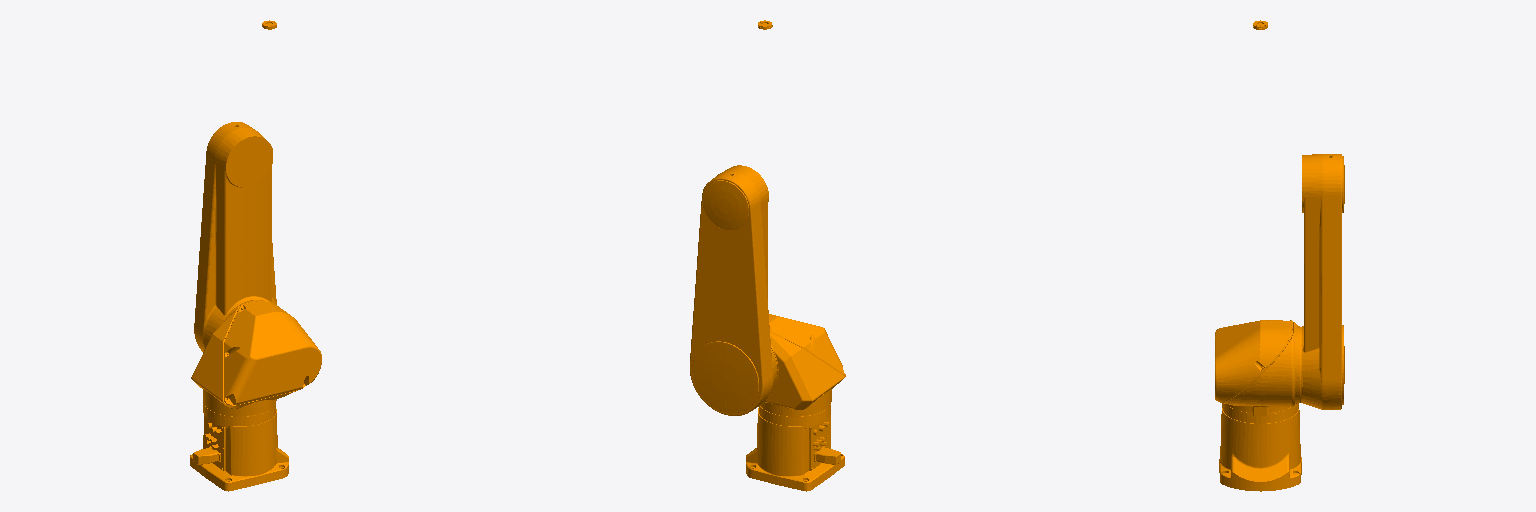
URDF robot description (staubli_rx160):
<?xml version="1.0" ?>
<!-- =================================================================================== -->
<!-- |    This document was autogenerated by xacro from rx160.xacro                    | -->
<!-- |    EDITING THIS FILE BY HAND IS NOT RECOMMENDED                                 | -->
<!-- =================================================================================== -->
<robot name="staubli_rx160" xmlns:xacro="http://ros.org/wiki/xacro">
  <link name="base_link">
    <visual>
      <origin rpy="0 0 0" xyz="0 0 0"/>
      <geometry>
        <mesh filename="package://staubli_rx160_support/meshes/rx160/visual/base_link.stl"/>
      </geometry>
      <material name="">
        <color rgba="1.0 0.608 0 1"/>
      </material>
    </visual>
    <collision>
      <origin rpy="0 0 0" xyz="0 0 0"/>
      <geometry>
        <mesh filename="package://staubli_rx160_support/meshes/rx160/collision/base_link.stl"/>
      </geometry>
    </collision>
  </link>
  <link name="link_1">
    <visual>
      <origin rpy="0 0 0" xyz="0 0 0"/>
      <geometry>
        <mesh filename="package://staubli_rx160_support/meshes/rx160/visual/link_1.stl"/>
      </geometry>
      <material name="">
        <color rgba="1.0 0.608 0 1"/>
      </material>
    </visual>
    <collision>
      <origin rpy="0 0 0" xyz="0 0 0"/>
      <geometry>
        <mesh filename="package://staubli_rx160_support/meshes/rx160/collision/link_1.stl"/>
      </geometry>
    </collision>
  </link>
  <link name="link_2">
    <visual>
      <origin rpy="0 0 0" xyz="0 0 0"/>
      <geometry>
        <mesh filename="package://staubli_rx160_support/meshes/rx160/visual/link_2.stl"/>
      </geometry>
      <material name="">
        <color rgba="1.0 0.608 0 1"/>
      </material>
    </visual>
    <collision>
      <origin rpy="0 0 0" xyz="0 0 0"/>
      <geometry>
        <mesh filename="package://staubli_rx160_support/meshes/rx160/collision/link_2.stl"/>
      </geometry>
    </collision>
  </link>
  <link name="link_3">
    <visual>
      <origin rpy="0 0 0" xyz="0 0 0"/>
      <geometry>
        <mesh filename="package://staubli_rx160_support/meshes/rx160/visual/link_3.stl"/>
      </geometry>
      <material name="">
        <color rgba="1.0 0.608 0 1"/>
      </material>
    </visual>
    <collision>
      <origin rpy="0 0 0" xyz="0 0 0"/>
      <geometry>
        <mesh filename="package://staubli_rx160_support/meshes/rx160/collision/link_3.stl"/>
      </geometry>
    </collision>
  </link>
  <link name="link_4">
    <visual>
      <origin rpy="0 0 0" xyz="0 0 0"/>
      <geometry>
        <mesh filename="package://staubli_rx160_support/meshes/rx160/visual/link_4.stl"/>
      </geometry>
      <material name="">
        <color rgba="1.0 0.608 0 1"/>
      </material>
    </visual>
    <collision>
      <origin rpy="0 0 0" xyz="0 0 0"/>
      <geometry>
        <mesh filename="package://staubli_rx160_support/meshes/rx160/collision/link_4.stl"/>
      </geometry>
    </collision>
  </link>
  <link name="link_5">
    <visual>
      <origin rpy="0 0 0" xyz="0 0 0"/>
      <geometry>
        <mesh filename="package://staubli_rx160_support/meshes/rx160/visual/link_5.stl"/>
      </geometry>
      <material name="">
        <color rgba="1.0 0.608 0 1"/>
      </material>
    </visual>
    <collision>
      <origin rpy="0 0 0" xyz="0 0 0"/>
      <geometry>
        <mesh filename="package://staubli_rx160_support/meshes/rx160/collision/link_5.stl"/>
      </geometry>
    </collision>
  </link>
  <link name="link_6">
    <visual>
      <!-- TODO: fix origin of link_6 STL -->
      <origin rpy="0 0 0" xyz="-0.0325 -0.0325 -0.015"/>
      <geometry>
        <mesh filename="package://staubli_rx160_support/meshes/rx160/visual/link_6.stl"/>
      </geometry>
      <material name="">
        <color rgba="1.0 0.608 0 1"/>
      </material>
    </visual>
    <collision>
      <!-- TODO: fix origin of link_6 STL -->
      <origin rpy="0 0 0" xyz="-0.0325 -0.0325 -0.015"/>
      <geometry>
        <mesh filename="package://staubli_rx160_support/meshes/rx160/collision/link_6.stl"/>
      </geometry>
    </collision>
  </link>
  <link name="tool0"/>
  <joint name="joint_1" type="revolute">
    <origin rpy="0 0 0" xyz="0 0 0.55"/>
    <parent link="base_link"/>
    <child link="link_1"/>
    <axis xyz="0 0 1"/>
    <limit effort="0" lower="-2.967060" upper="2.967060" velocity="2.88"/>
  </joint>
  <joint name="joint_2" type="revolute">
    <origin rpy="0 0 0" xyz="0.15 0 0"/>
    <parent link="link_1"/>
    <child link="link_2"/>
    <axis xyz="0 1 0"/>
    <limit effort="0" lower="-2.4" upper="2.4" velocity="2.62"/>
  </joint>
  <joint name="joint_3" type="revolute">
    <origin rpy="0 0 0" xyz="0 0 0.825"/>
    <parent link="link_2"/>
    <child link="link_3"/>
    <axis xyz="0 1 0"/>
    <limit effort="0" lower="-2.62" upper="2.62" velocity="3.32"/>
  </joint>
  <joint name="joint_4" type="revolute">
    <origin rpy="0 0 0" xyz="0 0 0"/>
    <parent link="link_3"/>
    <child link="link_4"/>
    <axis xyz="0 0 1"/>
    <limit effort="0" lower="-4.71" upper="4.71" velocity="5.15"/>
  </joint>
  <joint name="joint_5" type="revolute">
    <origin rpy="0 0 0" xyz="0 0 0.625"/>
    <parent link="link_4"/>
    <child link="link_5"/>
    <axis xyz="0 1 0"/>
    <limit effort="0" lower="-1.83" upper="2.09" velocity="4.54"/>
  </joint>
  <joint name="joint_6" type="revolute">
    <origin rpy="0 0 0" xyz="0 0 0.11"/>
    <parent link="link_5"/>
    <child link="link_6"/>
    <axis xyz="0 0 1"/>
    <limit effort="0" lower="-4.71" upper="4.71" velocity="7.68"/>
  </joint>
  <joint name="joint_6-tool0" type="fixed">
    <parent link="link_6"/>
    <child link="tool0"/>
    <origin rpy="0 0 0" xyz="0 0 0"/>
  </joint>
</robot>

--- Render facts (derived) ---
3 views of the same robot in one strip: view 1: azimuth 30°, elevation 25°; view 2: azimuth 150°, elevation 25°; view 3: azimuth 270°, elevation 25° (orthographic).
Model staubli_rx160 with 8 links and 7 joints (6 revolute, 1 fixed), rooted at base_link, posed all joints at 0.
Visible links, largest first — view 1: link_2, link_1, base_link; view 2: link_2, link_1, base_link; view 3: link_2, link_1, base_link.
Link boxes in pixels (x1,y1,x2,y2): link_2: (194, 122, 276, 351); link_1: (191, 300, 321, 416); base_link: (190, 403, 288, 491); link_2: (690, 165, 776, 415); link_1: (760, 314, 845, 416); base_link: (746, 404, 844, 491); link_2: (1302, 154, 1344, 409); link_1: (1215, 320, 1301, 415); base_link: (1219, 403, 1301, 491).
Bounding box of the posed robot: 0.5605 × 0.5424 × 2.11 m (x, y, z).
Meshes: 7 distinct files referenced, 4 mesh visuals loaded (4 binary STL); not drawn: 3 (reference not matched to a file when rendering).